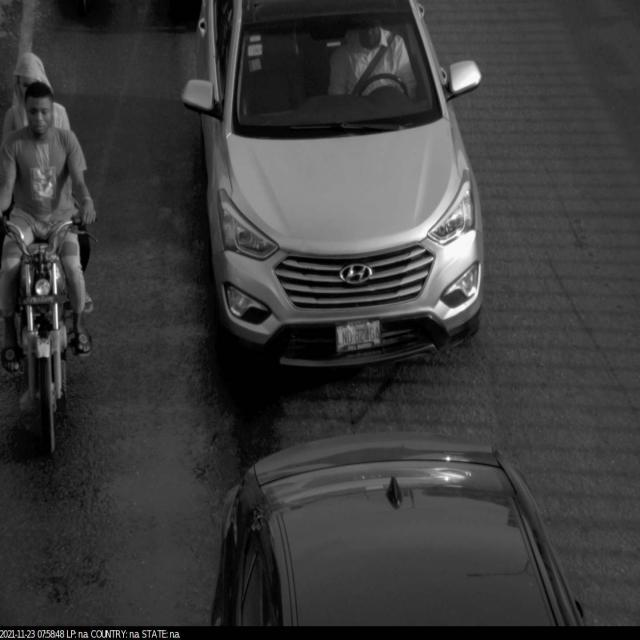windshield: (231, 5, 445, 148)
